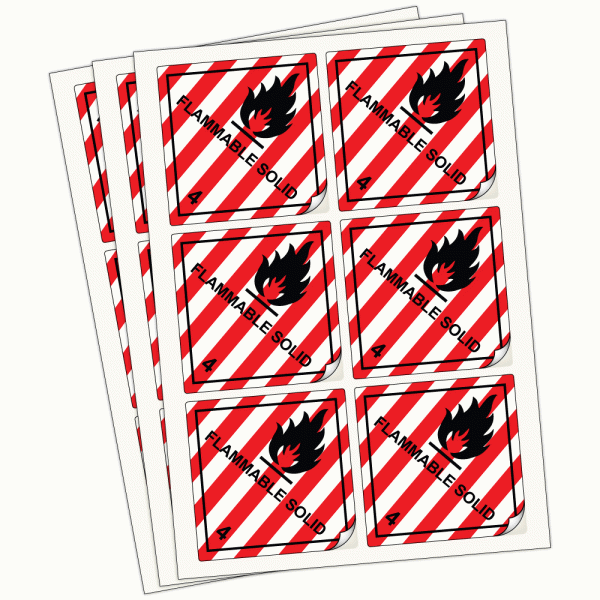FlammableSolid: (347, 221, 506, 372), (177, 235, 335, 380)
